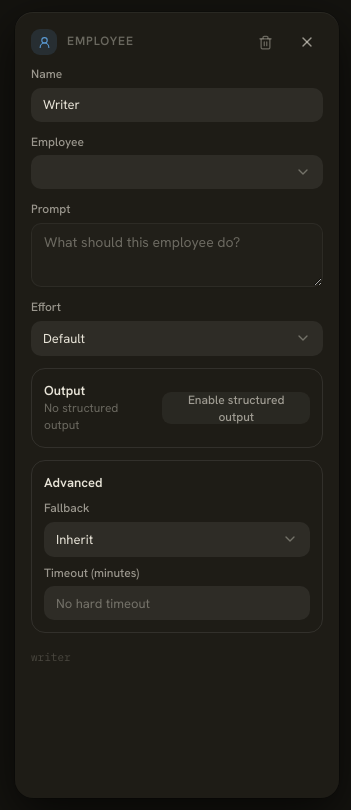
it: the Employee form's Fallback select › writes the chosen value onto the node config, and reads it back
The image size is (351, 810).
Click the dropdown named "Fallback": click(75, 539) [44,522,310,557]
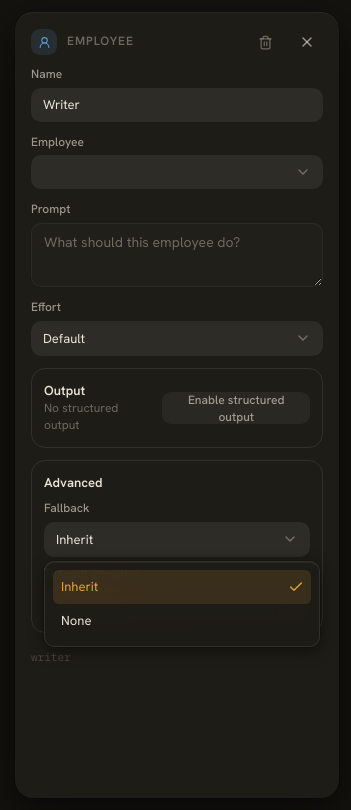
Click the option "None": click(76, 621) [61,612,91,629]
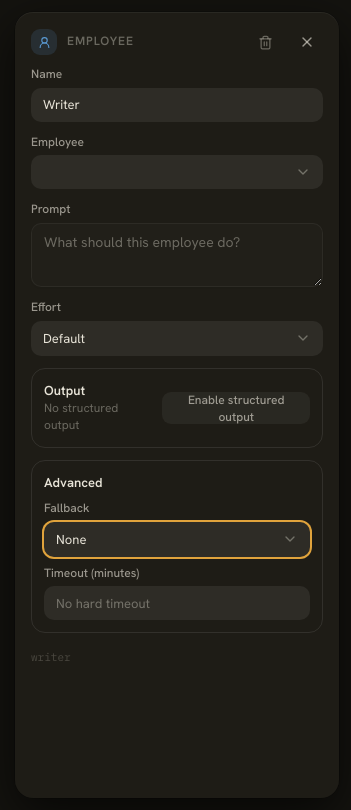
Now the dropdown named "Fallback" reads "None", box [44,522,310,557]
